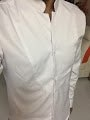shirts: (1, 1, 87, 120)
